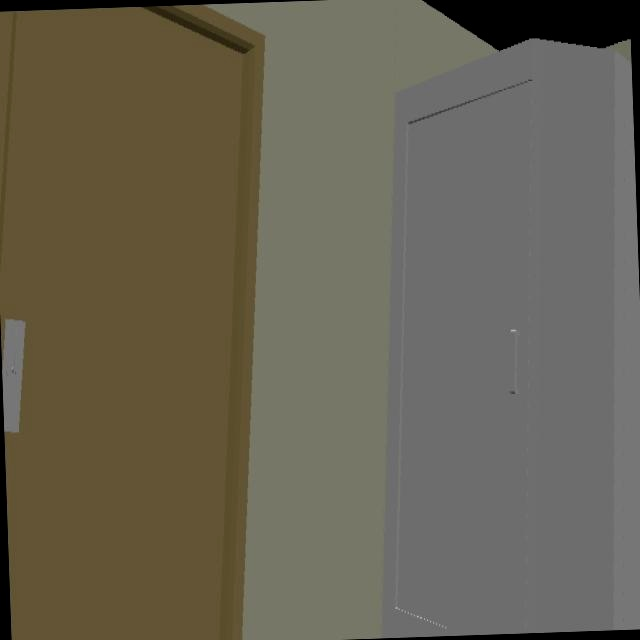shower: (381, 38, 640, 638)
